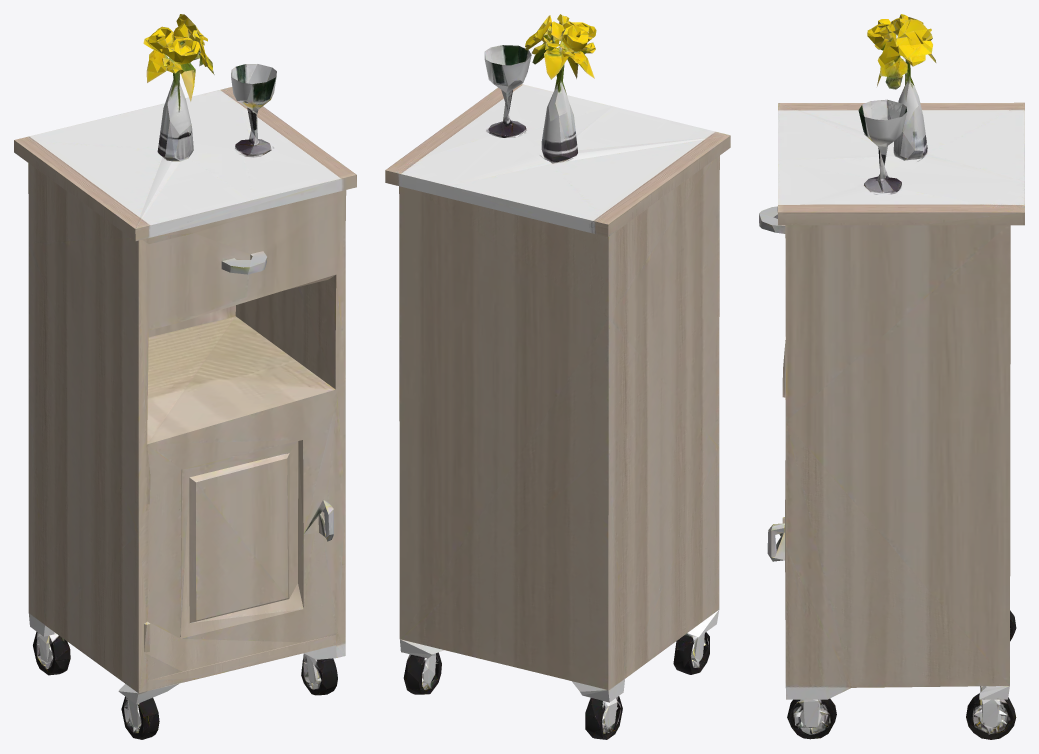
Rendered from bedside_cabinet.glb.
The picture shows the model from 3 angles, left to right: view 1: azimuth 30°, elevation 25°; view 2: azimuth 150°, elevation 25°; view 3: azimuth 270°, elevation 25°; orthographic projection.
Bounding box in the file's own units: 0.6616 × 1.9 × 0.6762.
1 material, 1 textured.
